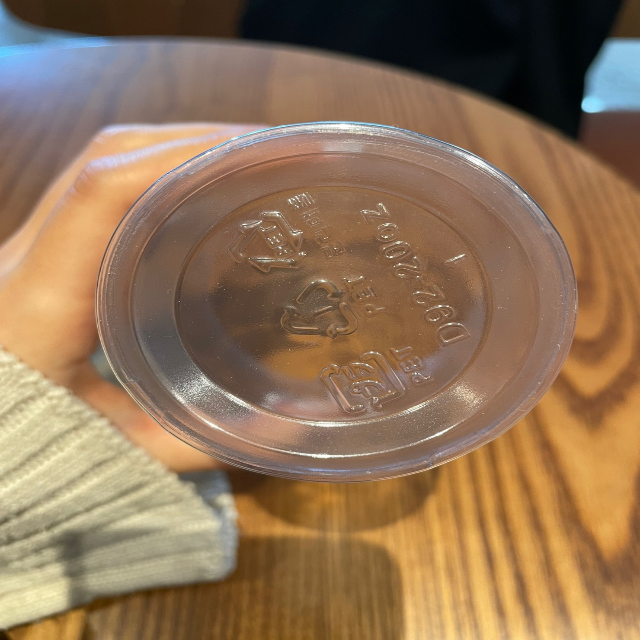pet: (230, 188, 349, 273), (317, 342, 437, 415), (278, 274, 390, 343)
